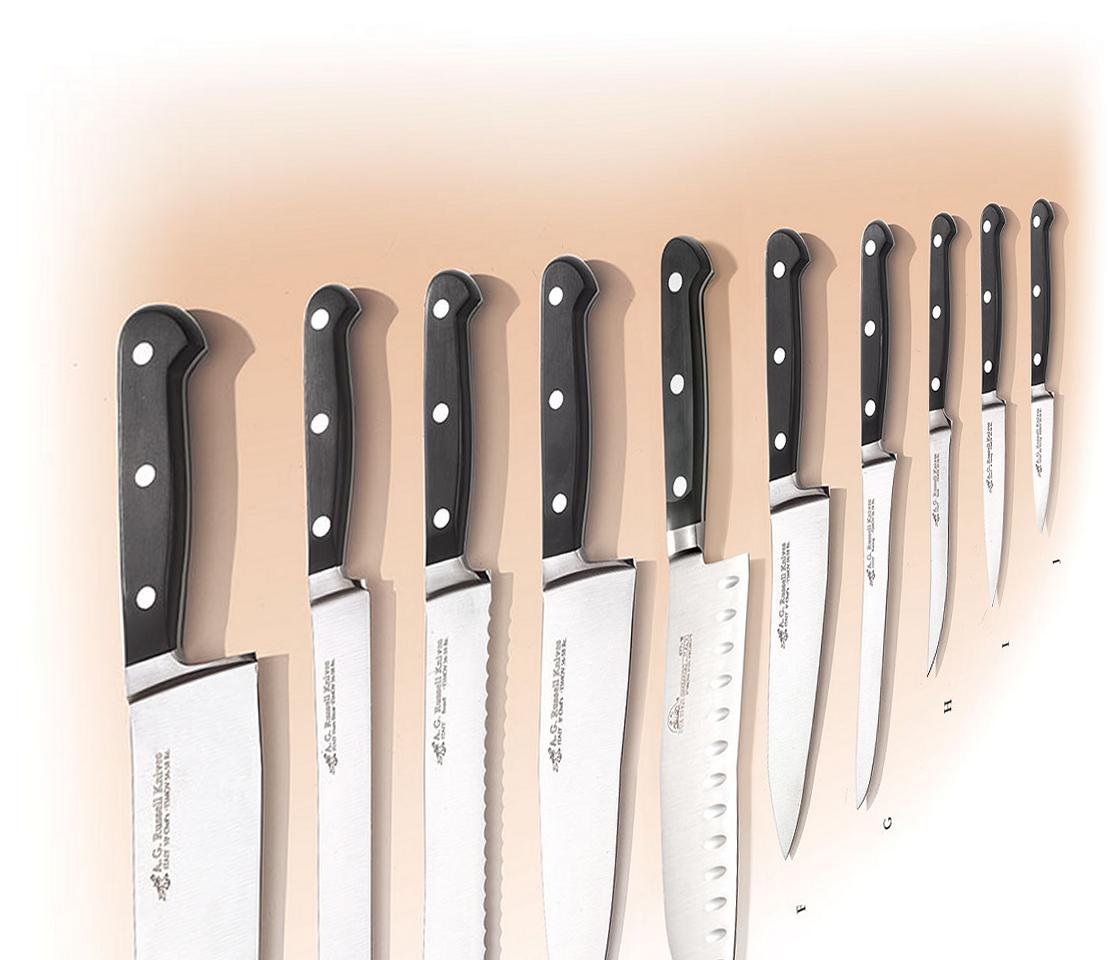knife: (111, 308, 263, 960), (539, 256, 636, 960), (295, 283, 377, 960), (761, 228, 830, 855), (861, 224, 903, 824), (927, 211, 956, 680), (980, 200, 1009, 615), (1028, 199, 1058, 530)
